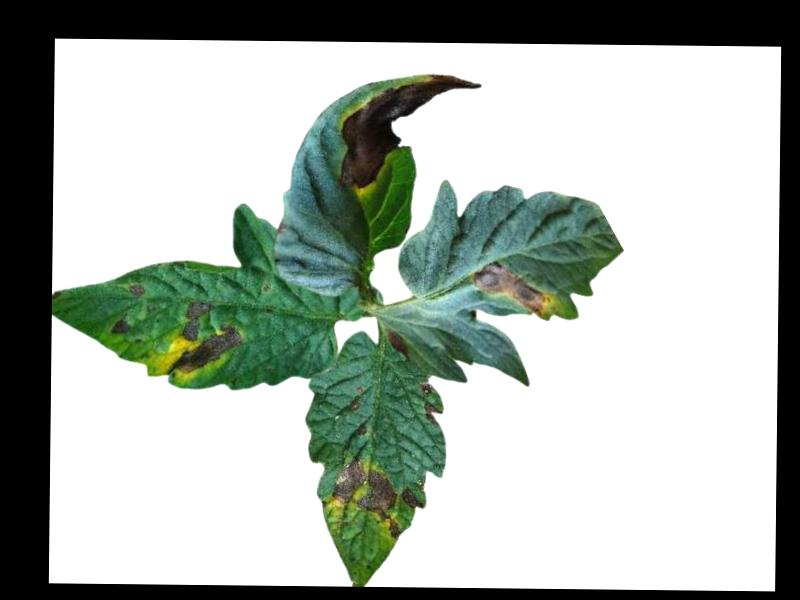Early_blight: (338, 72, 482, 189), (330, 456, 402, 540), (165, 299, 242, 376), (471, 259, 557, 320), (421, 381, 440, 426), (388, 328, 409, 362), (402, 485, 423, 510), (109, 315, 130, 335), (129, 283, 146, 297)
